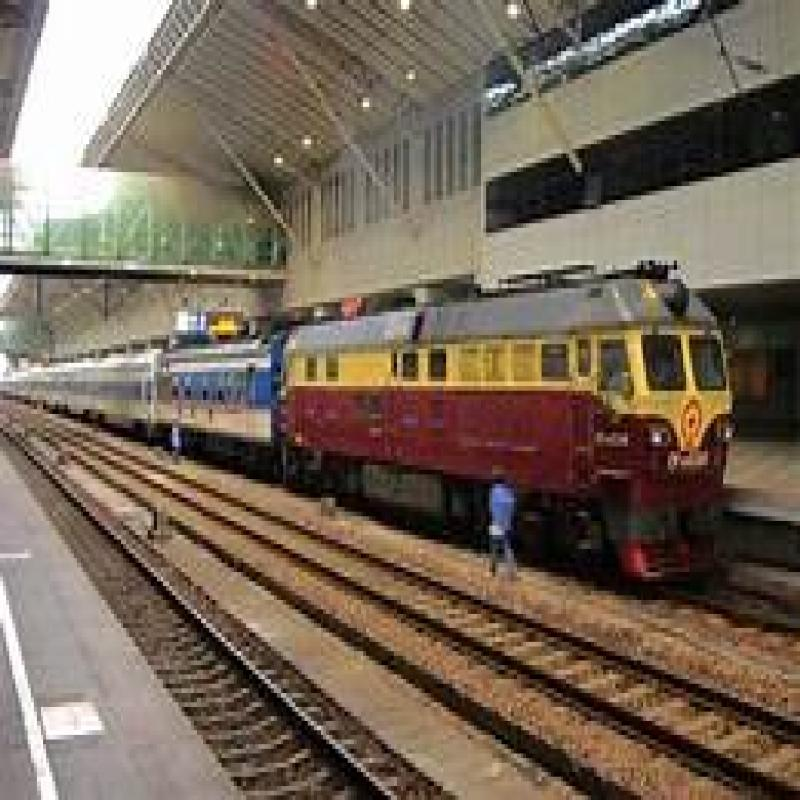train: (161, 317, 755, 587)
